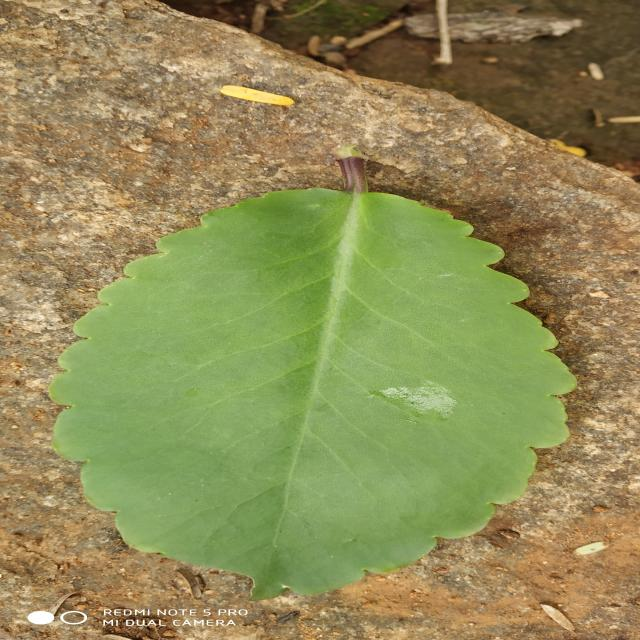spinach: (50, 189, 575, 599)
